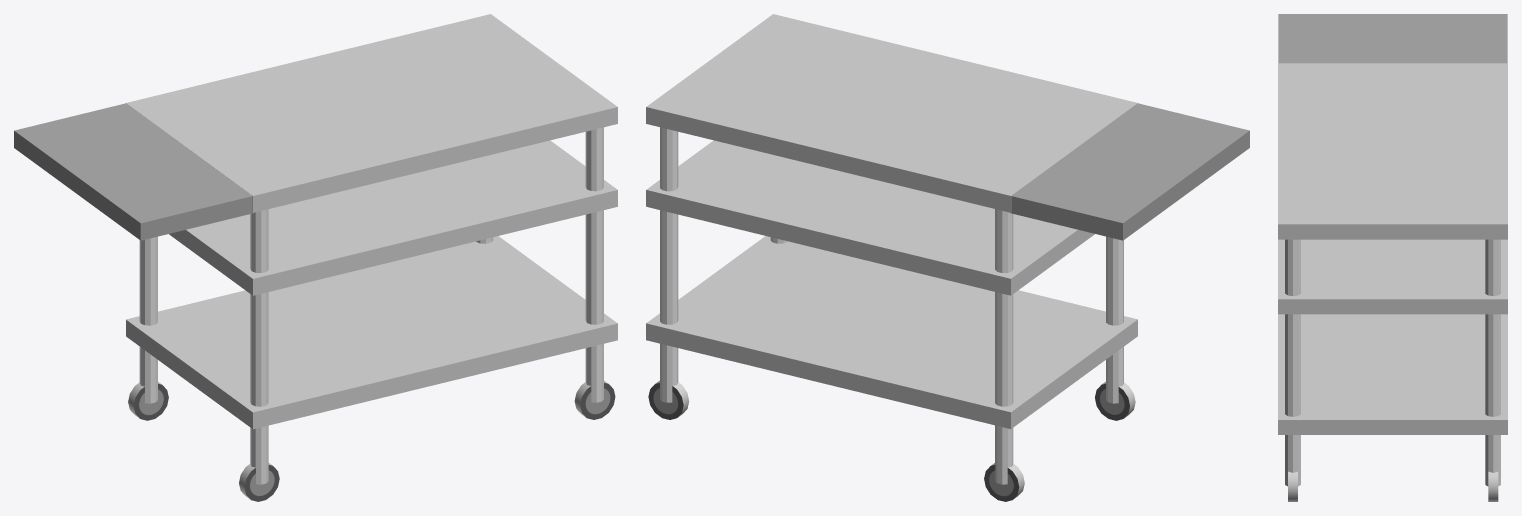
File: French_trolley.fbx
The picture shows the model from 3 angles, left to right: view 1: azimuth 30°, elevation 25°; view 2: azimuth 150°, elevation 25°; view 3: azimuth 270°, elevation 25°; orthographic projection. The views are drawn at different scales.
Parts seen in each view (by area): view 1: pCube3; view 2: pCube3; view 3: pCube3.
Part boxes in pixels (<box>): pCube3: <box>14,14,617,501</box>; pCube3: <box>646,14,1249,501</box>; pCube3: <box>1278,14,1507,501</box>.
Size of the model in its own units: 61.72 by 38.4 by 28.31.
